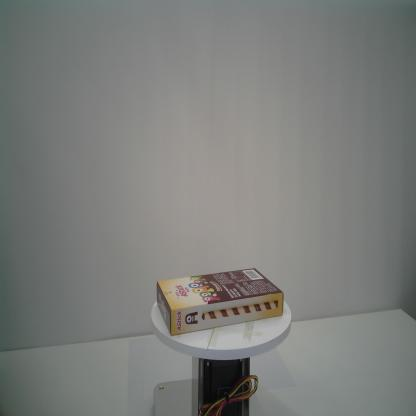Dessert: (156, 265, 285, 336)
